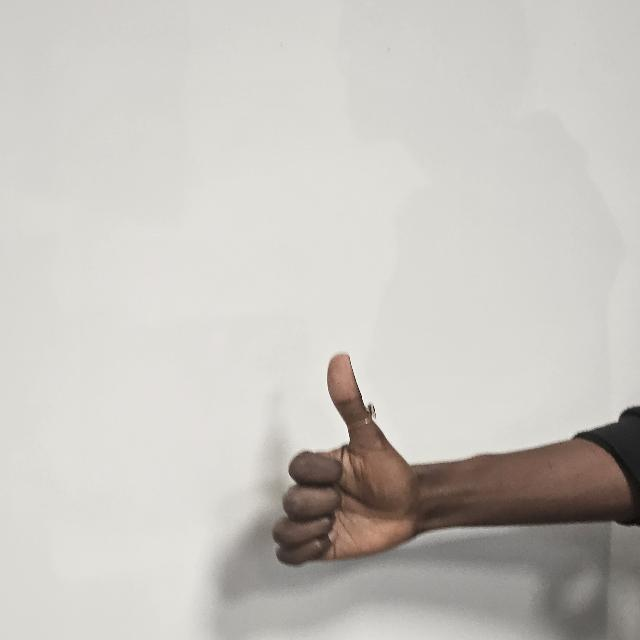Start: (268, 352, 462, 594)
